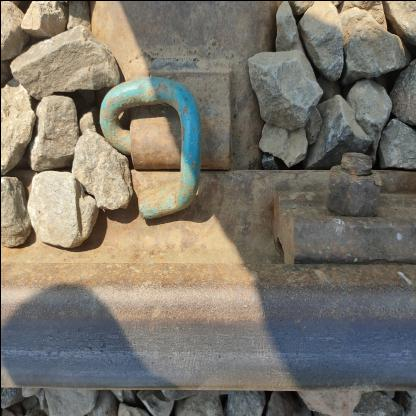Non Defective 1: (89, 36, 246, 239)
